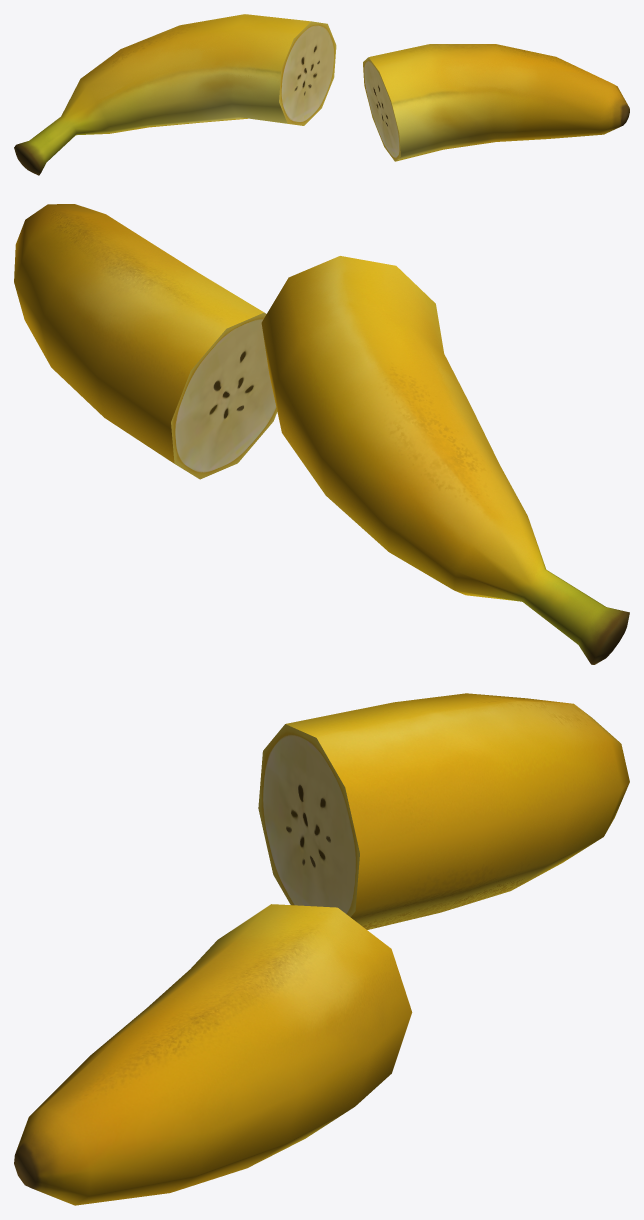
Rendered from sliced_banana.glb.
3 renders of one model, top to bottom at view 1: azimuth 30°, elevation 25°; view 2: azimuth 150°, elevation 25°; view 3: azimuth 270°, elevation 25°, orthographic. The views are drawn at different scales.
Parts seen in each view (by area): view 1: Banana_Yellow1, Banana_Yellow; view 2: Banana_Yellow1, Banana_Yellow; view 3: Banana_Yellow, Banana_Yellow1.
Boxes of the visible parts, x1,y1,x2,y2 form: Banana_Yellow1: [14, 14, 336, 175]; Banana_Yellow: [363, 44, 629, 161]; Banana_Yellow1: [261, 256, 629, 664]; Banana_Yellow: [14, 204, 277, 479]; Banana_Yellow: [14, 904, 412, 1205]; Banana_Yellow1: [258, 693, 629, 929].
Size of the model in its own units: 1.36 by 0.406 by 0.7613.
1 material, 1 textured.
